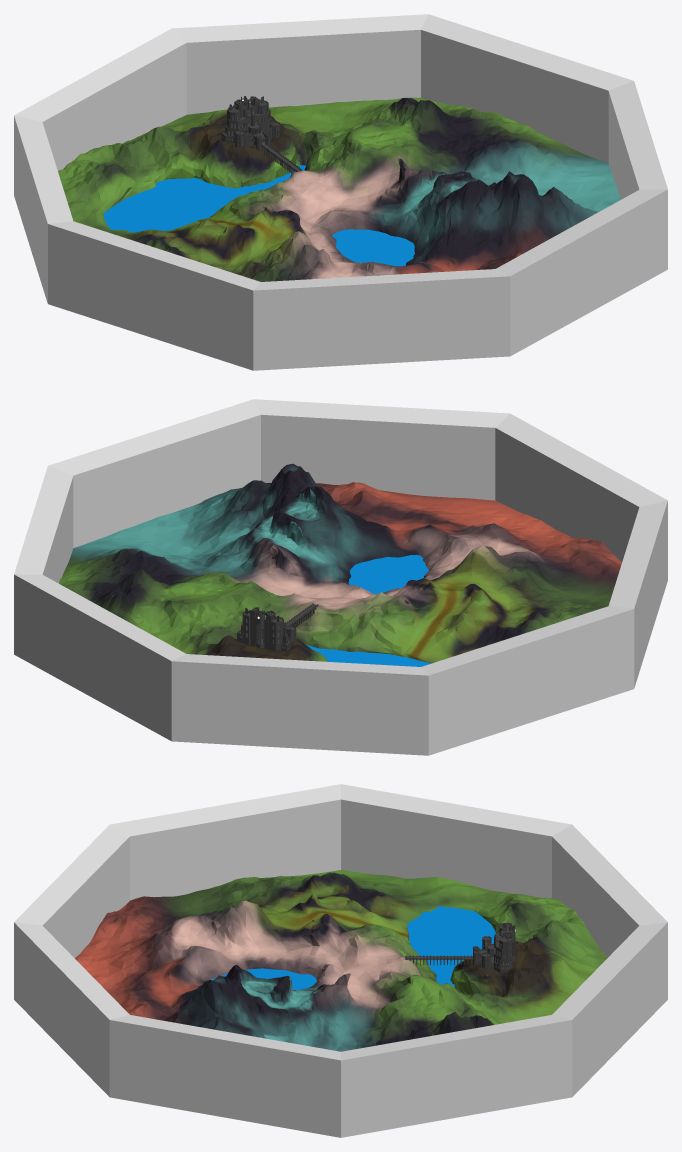
The model's file is lobby14.glb.
3 renders of one model, top to bottom at view 1: azimuth 30°, elevation 25°; view 2: azimuth 150°, elevation 25°; view 3: azimuth 270°, elevation 25°, orthographic. The views are drawn at different scales.
Parts seen in each view (by area): view 1: land limit, Landscape, ocean 01, ocean 02, castle; view 2: land limit, Landscape, ocean 02, castle, ocean 01; view 3: land limit, Landscape, ocean 01, castle, ocean 02.
Boxes of the visible parts, x1=… form: land limit: x1=14, y1=14, x2=667, y2=370; Landscape: x1=58, y1=97, x2=620, y2=281; ocean 01: x1=103, y1=165, x2=305, y2=232; ocean 02: x1=332, y1=229, x2=414, y2=266; castle: x1=221, y1=96, x2=280, y2=150; land limit: x1=14, y1=399, x2=667, y2=755; Landscape: x1=59, y1=463, x2=621, y2=663; ocean 02: x1=348, y1=555, x2=428, y2=594; castle: x1=237, y1=607, x2=296, y2=651; ocean 01: x1=306, y1=645, x2=431, y2=666; land limit: x1=14, y1=784, x2=667, y2=1137; Landscape: x1=75, y1=870, x2=607, y2=1051; ocean 01: x1=407, y1=906, x2=495, y2=987; castle: x1=473, y1=920, x2=515, y2=973; ocean 02: x1=210, y1=968, x2=316, y2=989.
Size of what is drawn, in the model's own units: 526 by 98.97 by 526.
Materials: 4 (1 with a texture image).
